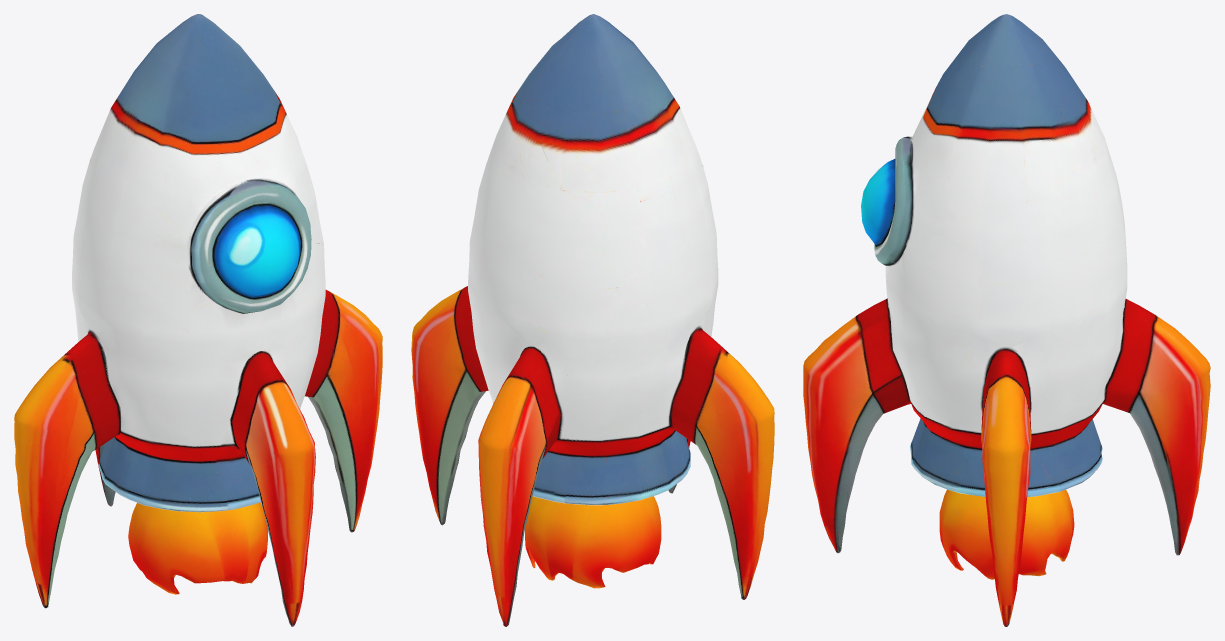
Rendered from rocket.glb.
3 renders of one model, left to right at view 1: azimuth 30°, elevation 25°; view 2: azimuth 150°, elevation 25°; view 3: azimuth 270°, elevation 25°, orthographic. The views are drawn at different scales.
Size of the model in its own units: 1.3 by 1.91 by 1.3.
1 material, 1 textured.
